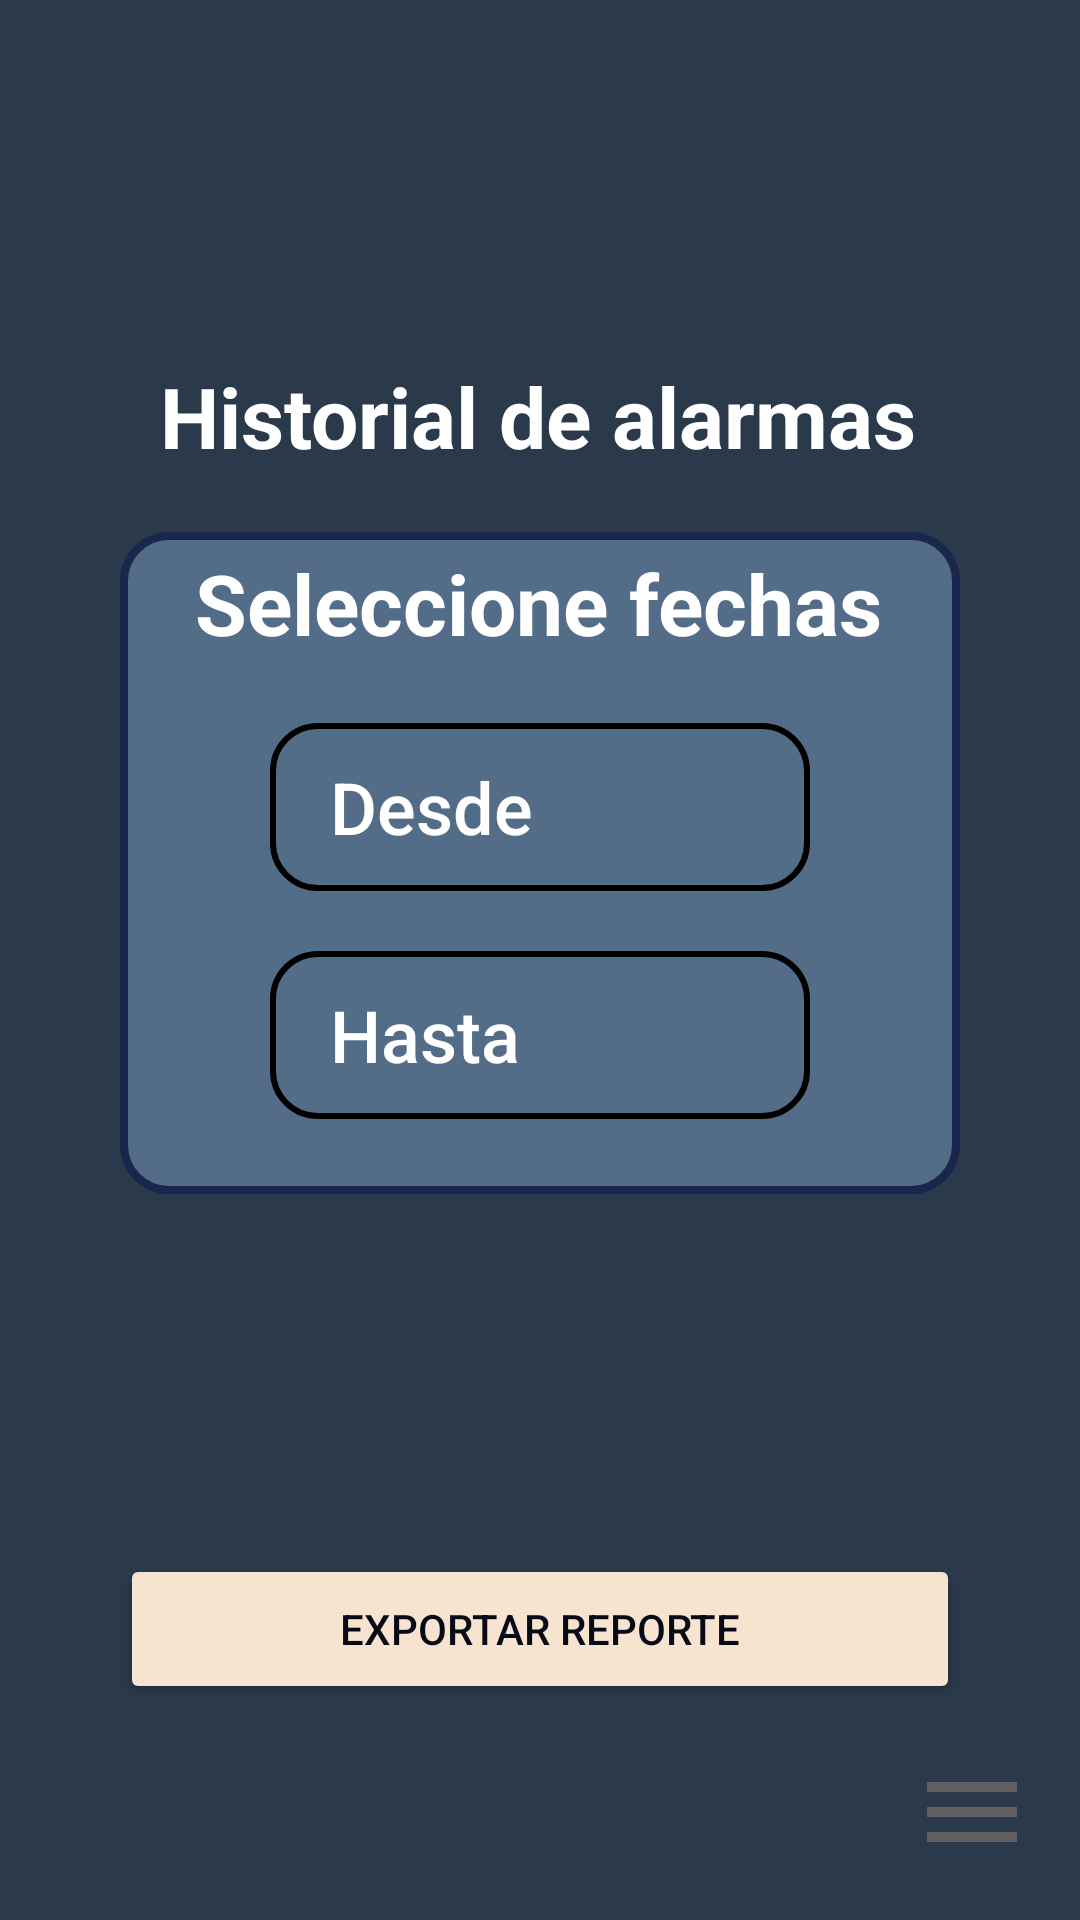

Icons on this 1080px x 1920px Android screen, each with the point to tap as (x,y):
menu: (972,1812)
